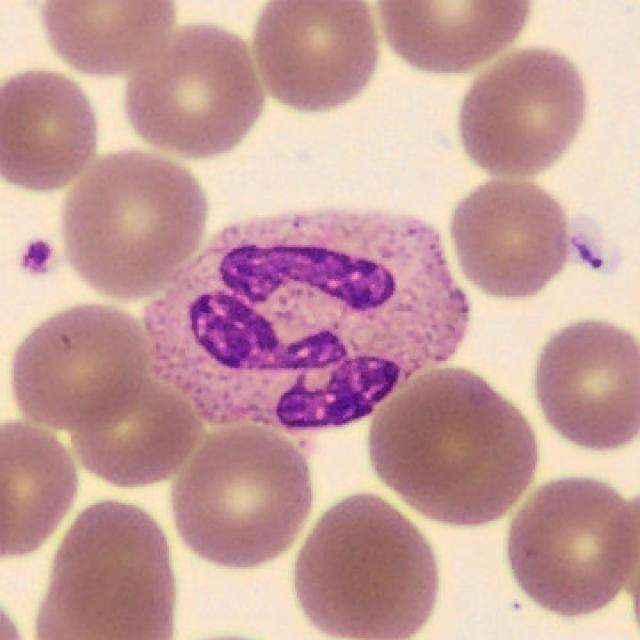Neutrofilo segmentado: (144, 210, 469, 434)
